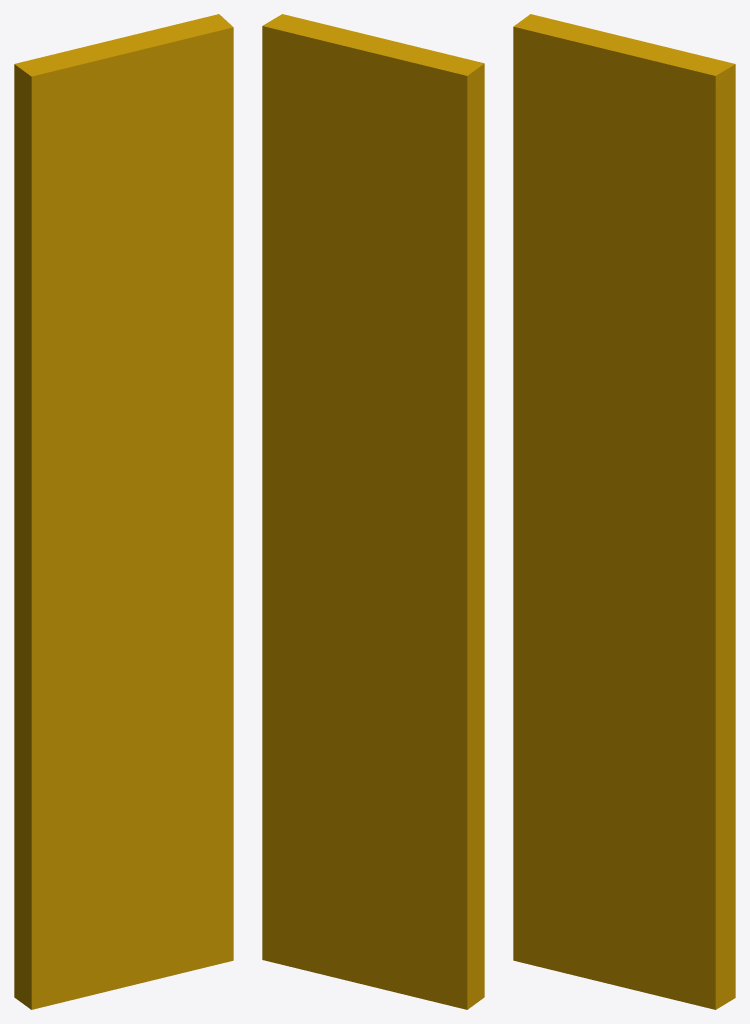
The model's file is simple_example_hole_part_3.obj.
The picture shows the model from 3 angles, left to right: view 1: azimuth 30°, elevation 25°; view 2: azimuth 150°, elevation 25°; view 3: azimuth 330°, elevation 25°; orthographic projection.
Size of the model in its own units: 16.72 by 72.79 by 2.44.
